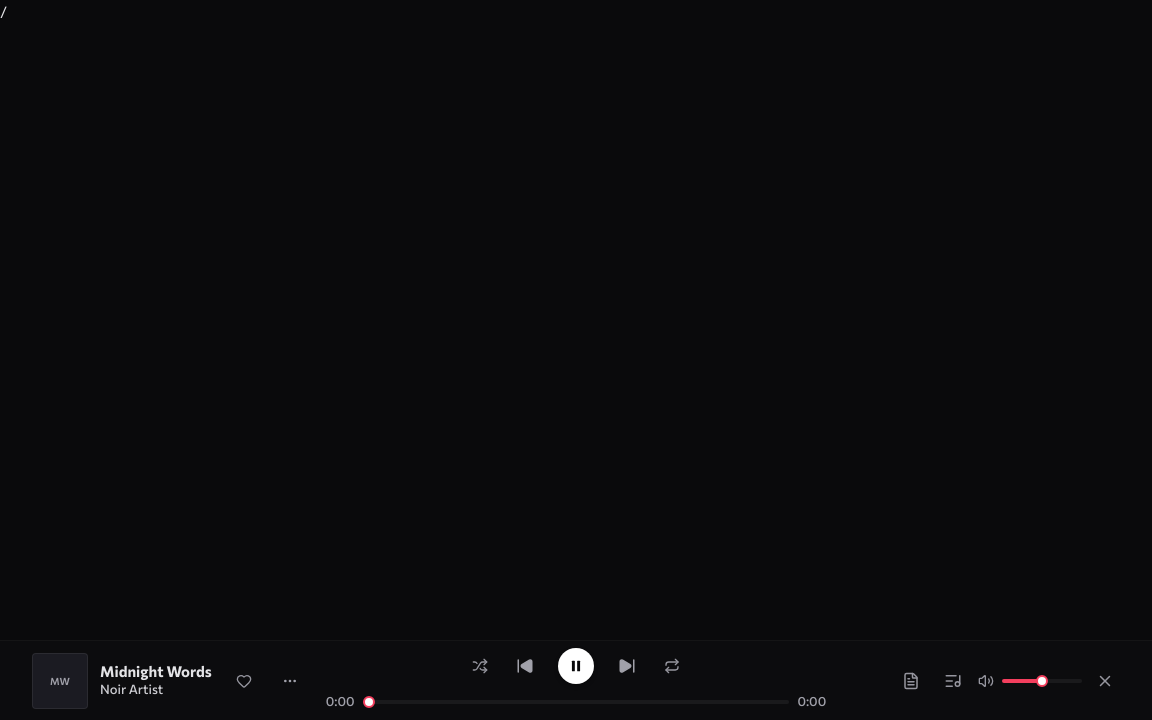
it: lyrics UI › shows a friendly error and retries without exposing the raw failure
The width and height of the screenshot is (1152, 720).
Click the button named "Open fullscreen lyrics" at (911, 680), box top-left (894, 664), bottom-right (928, 698)
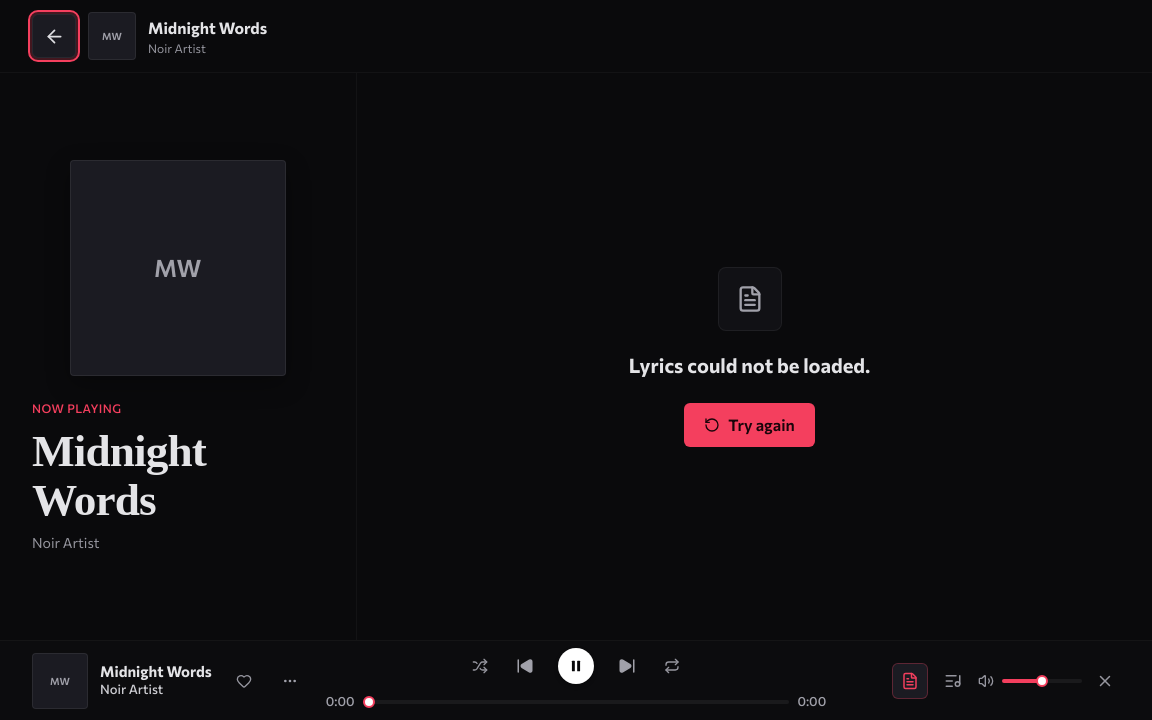
Expected: the heading "Lyrics could not be loaded." is shown, top-left (629, 350), bottom-right (870, 378)
Click the button "Try again" at (750, 424), box top-left (684, 402), bottom-right (815, 446)
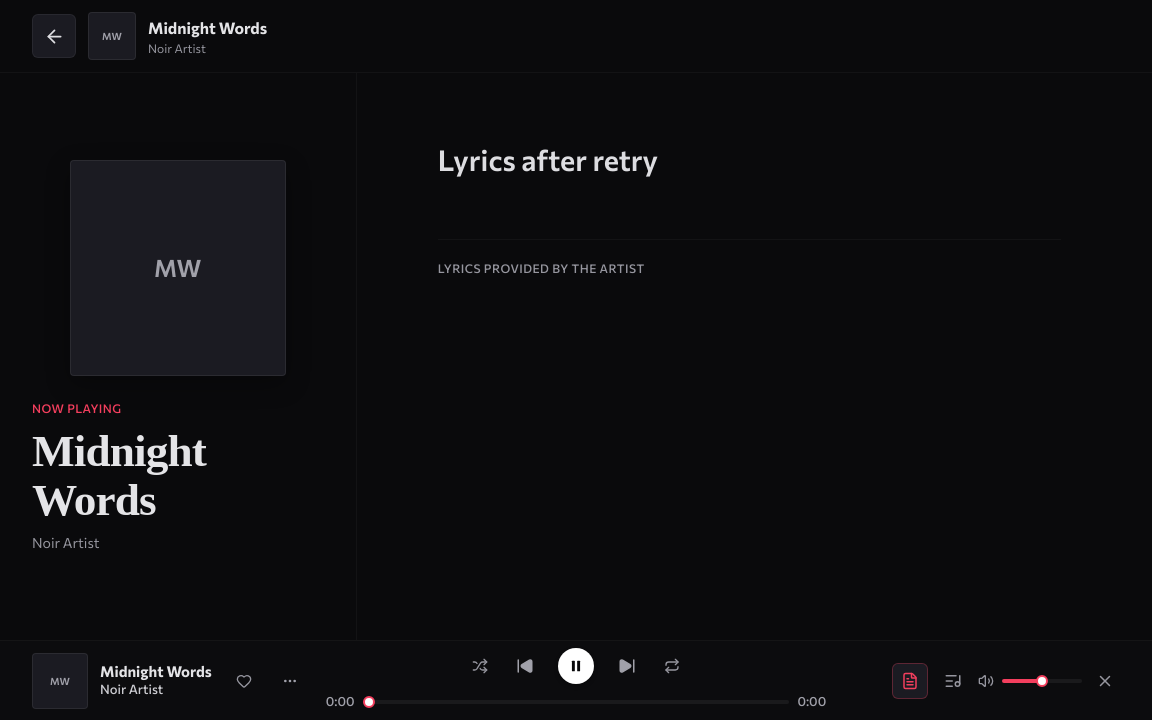
Expected: the text "Lyrics after retry" is shown, top-left (438, 142), bottom-right (658, 177)
